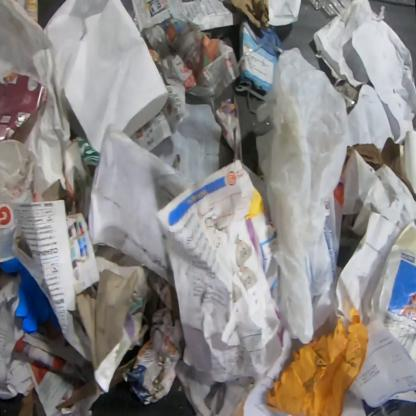cardboard: (0, 199, 93, 364), (266, 298, 370, 416), (67, 212, 101, 296), (54, 379, 106, 410), (224, 0, 271, 29), (109, 354, 137, 390)
rigid_plastic: (234, 79, 265, 114), (308, 0, 354, 19)
soft_plastic: (256, 46, 353, 345)
